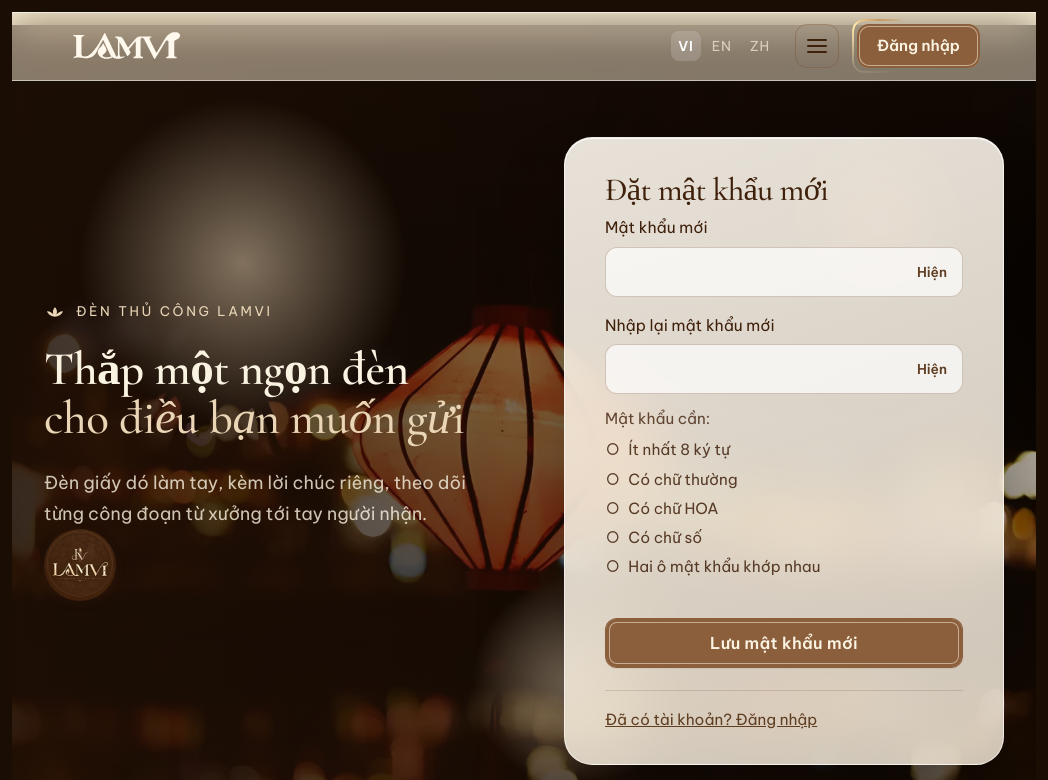
Scenario: Đặt lại mật khẩu: nhập lại mật khẩu mới › hai ô không khớp → báo lỗi ngay ở trình duyệt, KHÔNG gọi API (token chưa bị tiêu thụ)
Expected: the heading "Đặt mật khẩu mới" is shown, [605, 170, 828, 209]
Type "Moi-Nang#Xuan71" into the password field labelled "Mật khẩu mới" at (784, 272), box [605, 247, 963, 296]
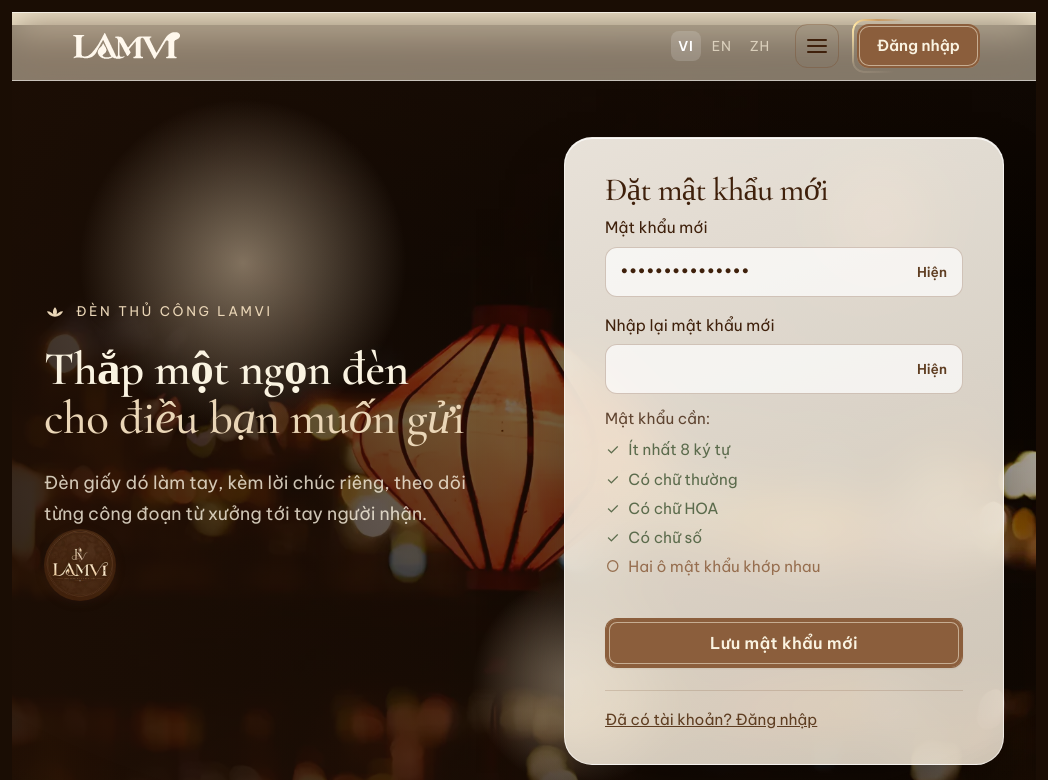
Type "Moi-Nang#Xuan72" into the password field labelled "Nhập lại mật khẩu mới" at (784, 369), box [605, 344, 963, 394]
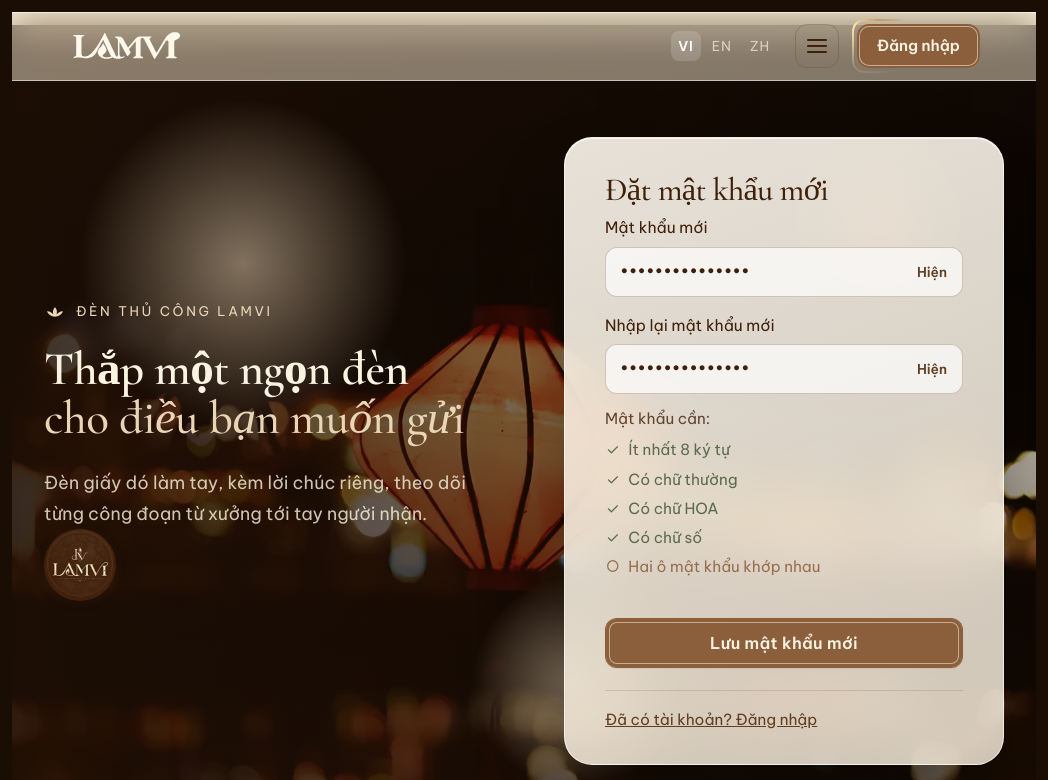
Click the button "Lưu mật khẩu mới" at (784, 642), box [605, 618, 963, 668]
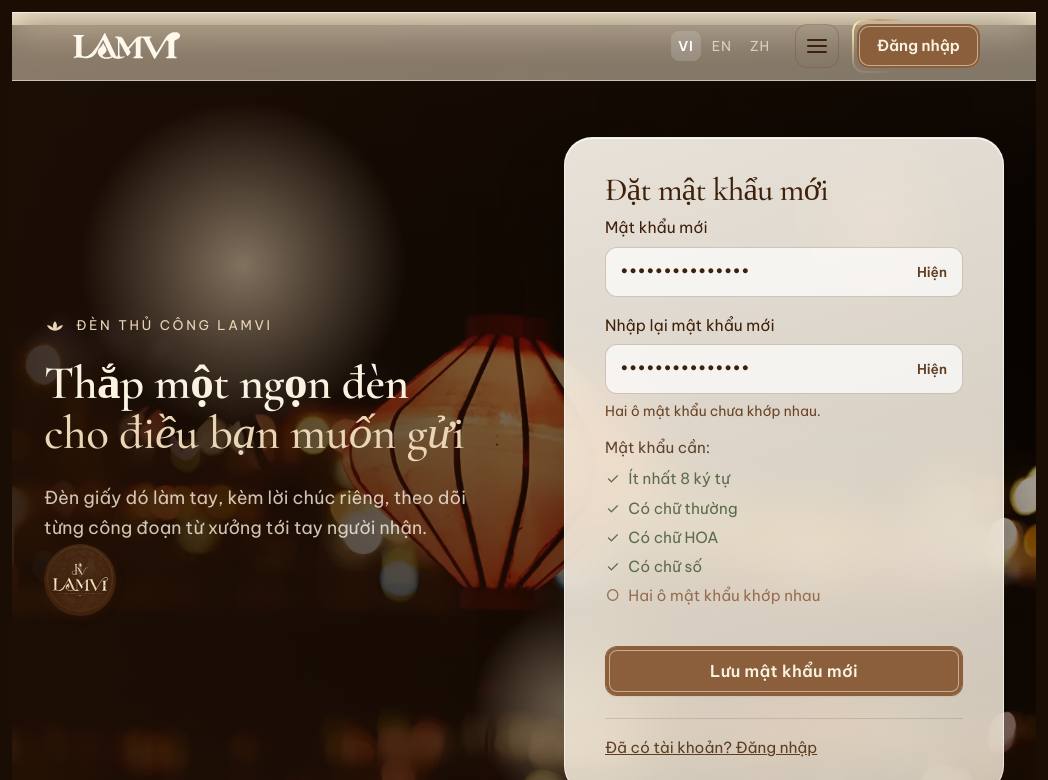
Expected: the text "Hai ô mật khẩu chưa khớp nhau." is shown, [605, 402, 821, 420]
